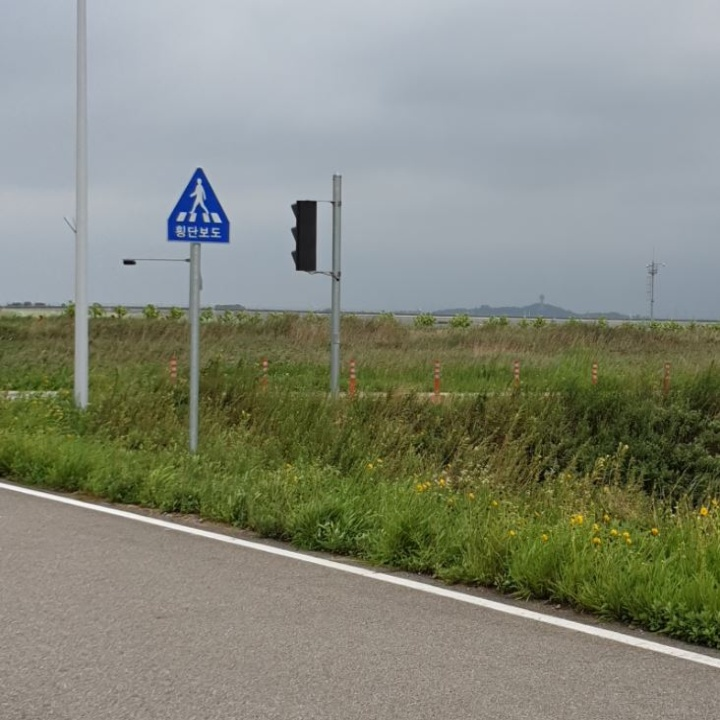cross: (186, 173, 212, 220)
